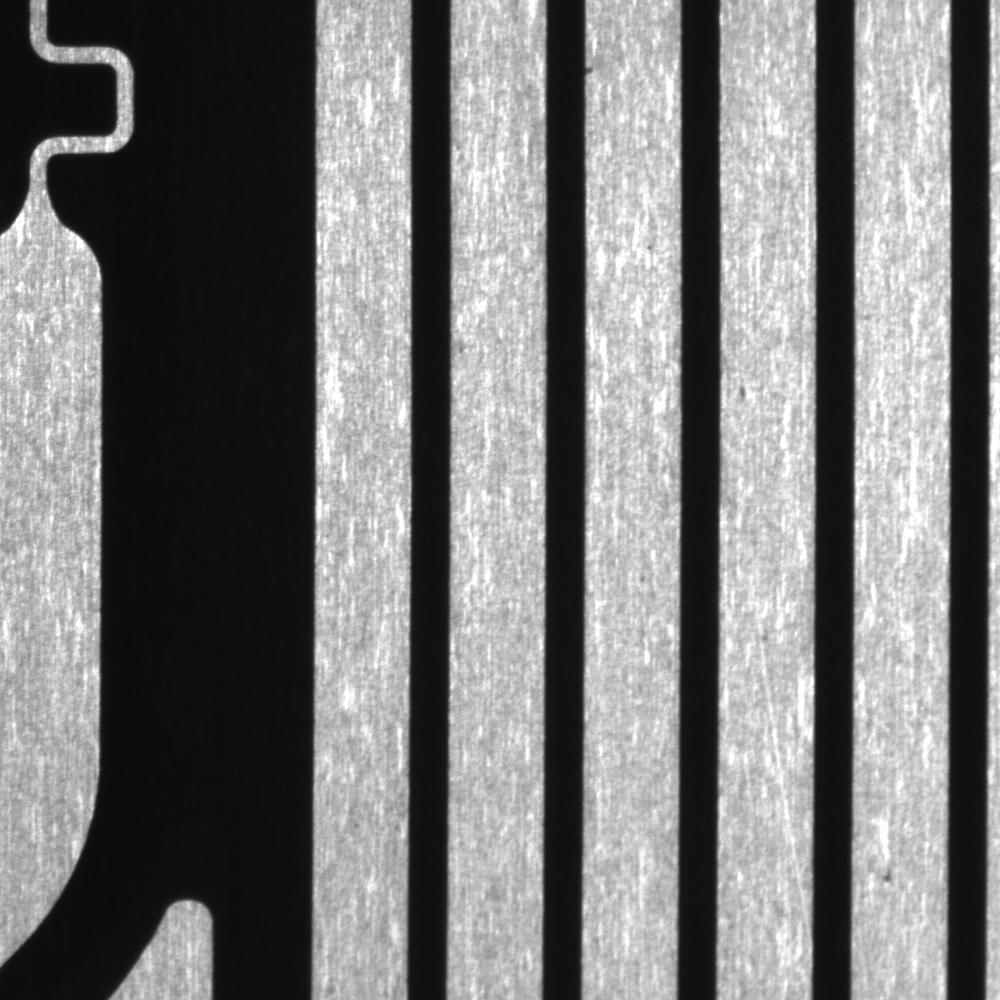Etching: (872, 858, 902, 892), (731, 374, 760, 409), (580, 51, 606, 84)
